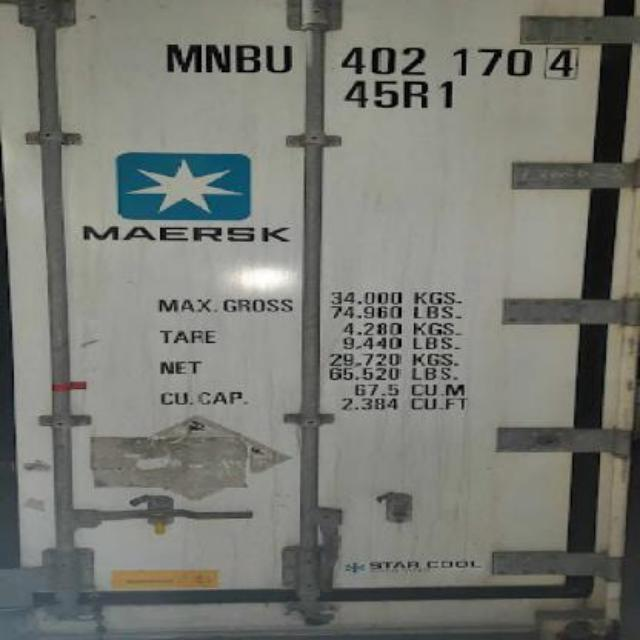0: (368, 44, 404, 78), (508, 46, 532, 78)
1: (450, 42, 478, 76)
2: (402, 42, 428, 78)
4: (542, 48, 580, 80), (338, 44, 372, 74)
7: (476, 44, 502, 78)
B: (238, 42, 266, 74)
M: (168, 44, 200, 70)
N: (202, 43, 232, 73)
U: (264, 42, 298, 74)
